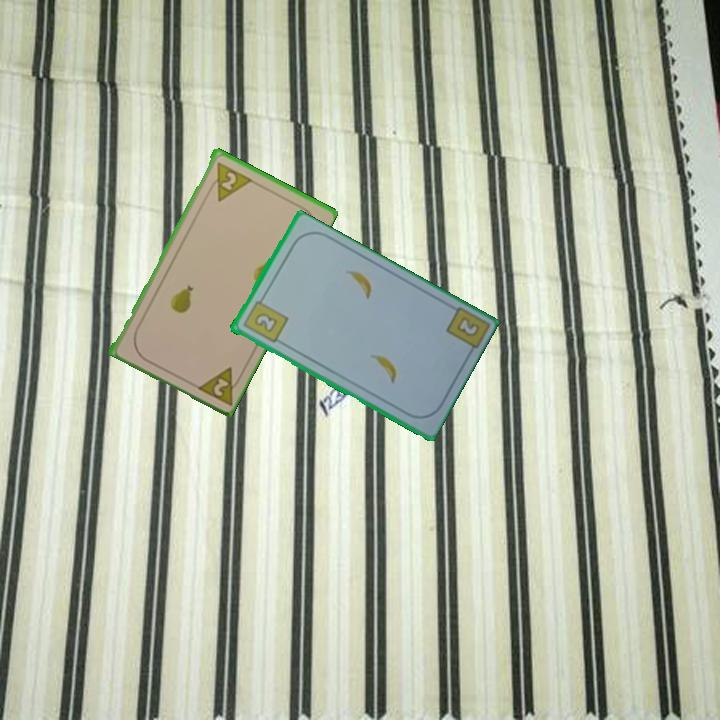2b: (239, 293, 290, 346), (442, 303, 490, 359)
2p: (191, 362, 246, 408), (204, 158, 253, 204)
